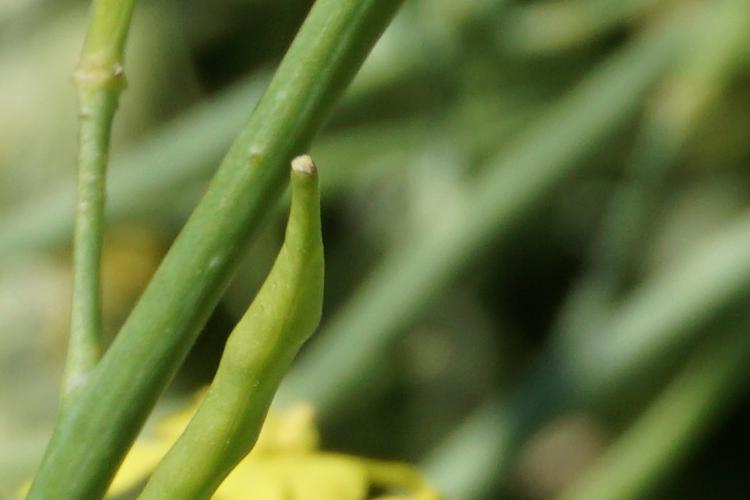pod: (152, 145, 351, 494)
